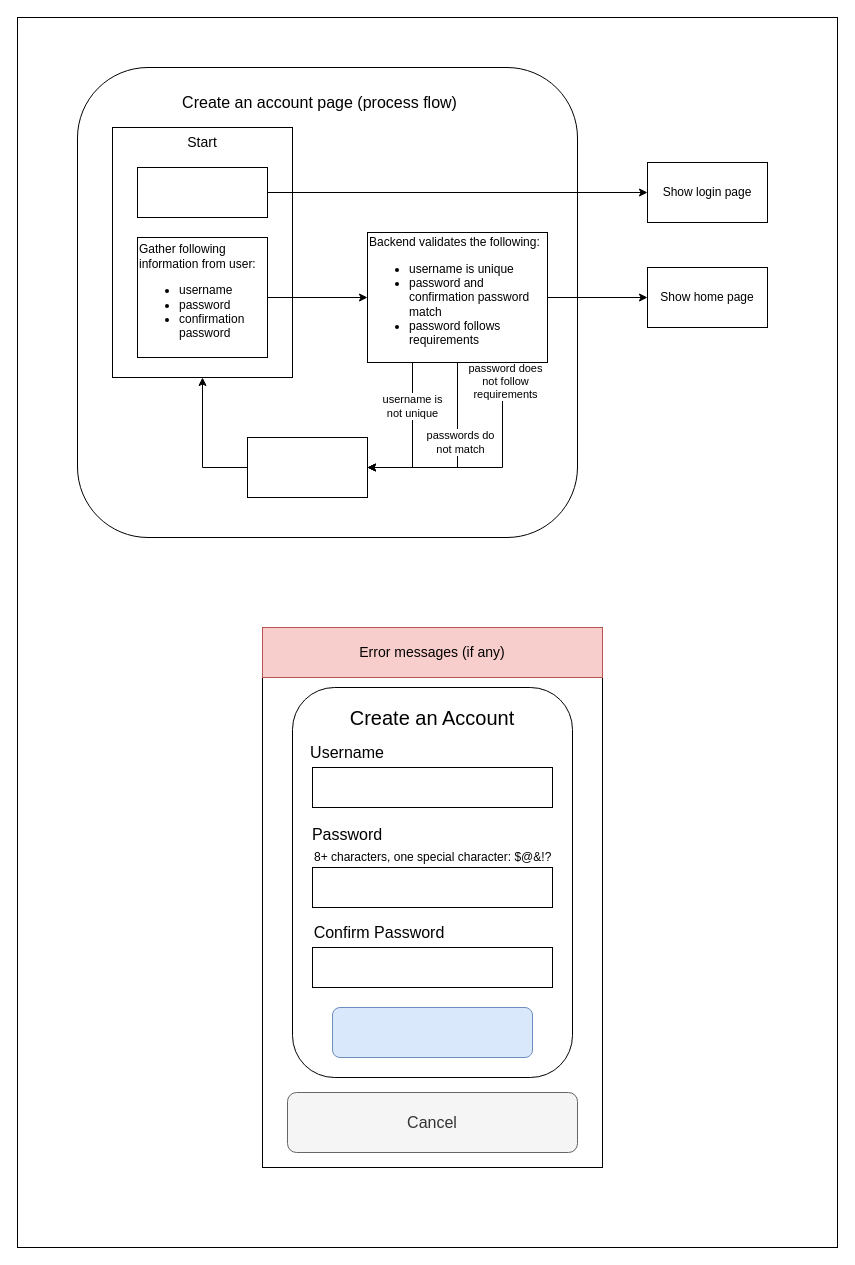
Image size: 855x1265. Some labels were removed from this diagram. Here are the shapes that lost their labels. From the top down, the centre of each, then its label:
At (x=202, y=192): "User cancels".
At (x=307, y=467): "Display error message on the top".
At (x=432, y=1032): "Create Account".
